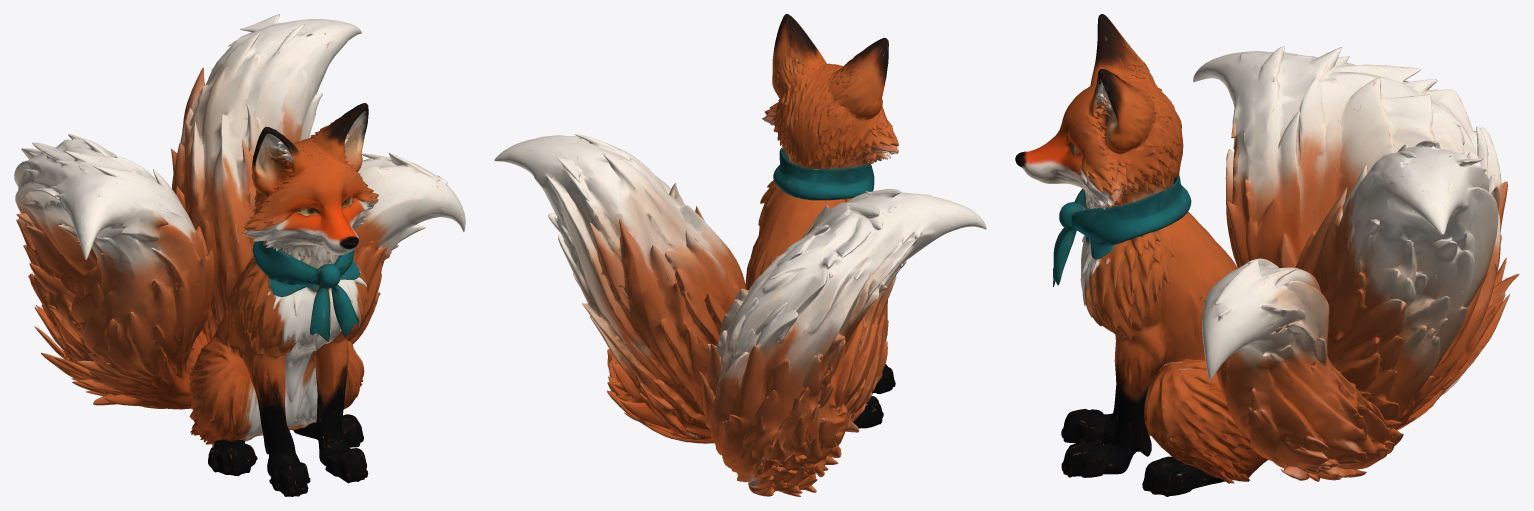
Rendered from detail_3.glb.
The picture shows the model from 3 angles, left to right: view 1: azimuth 30°, elevation 25°; view 2: azimuth 150°, elevation 25°; view 3: azimuth 270°, elevation 25°; orthographic projection. The views are drawn at different scales.
Bounding box in the file's own units: 0.9996 × 0.8934 × 0.9787.
1 material, 1 textured.
